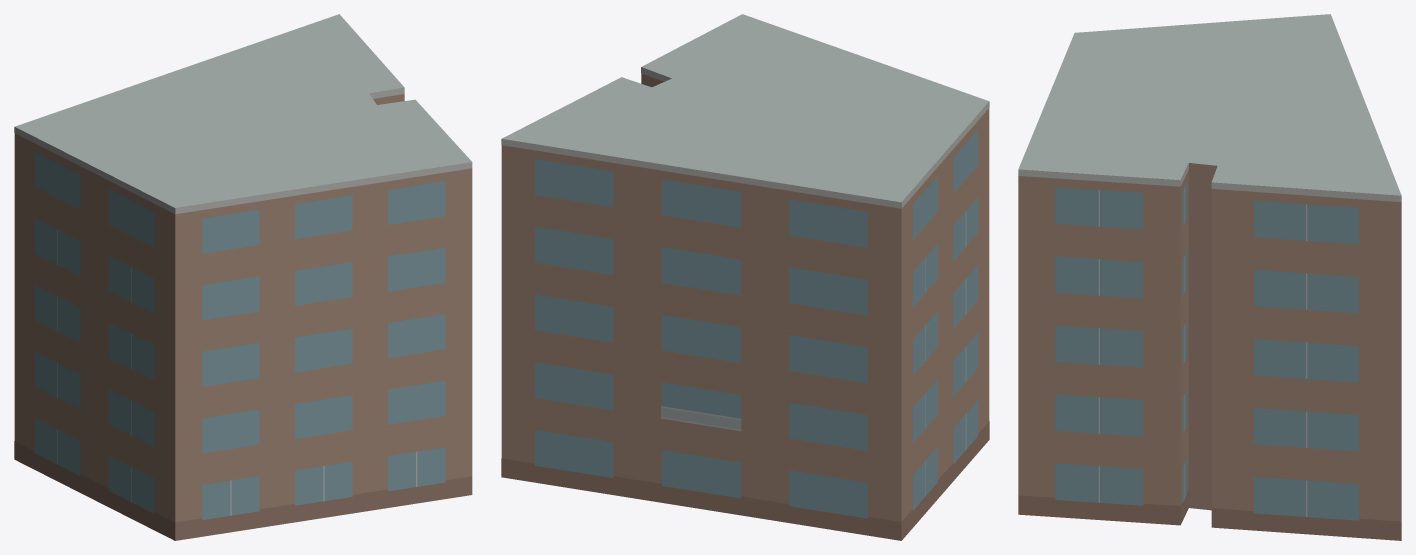
File: survey-upis-32710290.glb
The picture shows the model from 3 angles, left to right: view 1: azimuth 30°, elevation 25°; view 2: azimuth 150°, elevation 25°; view 3: azimuth 270°, elevation 25°; orthographic projection. The views are drawn at different scales.
Parts seen in each view (by area): view 1: survey-upis-32710290.tmp; view 2: survey-upis-32710290.tmp; view 3: survey-upis-32710290.tmp.
Boxes of the visible parts, box(x1,y1,x2,y2) form: survey-upis-32710290.tmp: box(14, 14, 472, 540); survey-upis-32710290.tmp: box(501, 14, 989, 540); survey-upis-32710290.tmp: box(1018, 14, 1401, 540).
Size of the model in its own units: 14.69 by 13 by 13.1.
